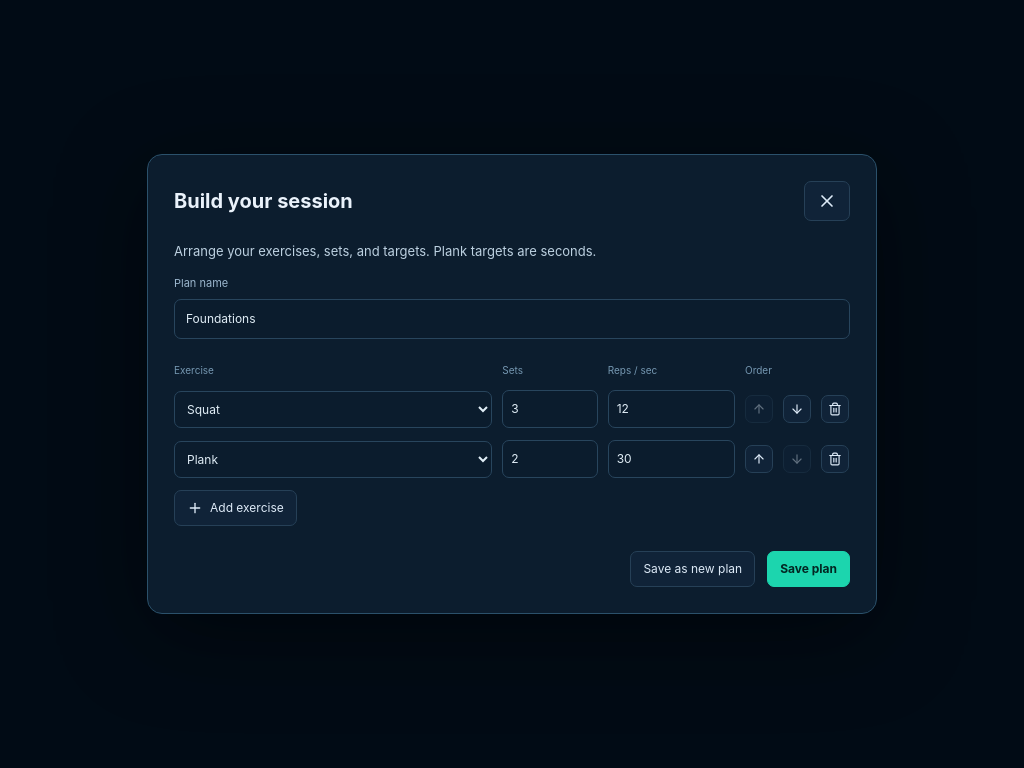
Plan editor › shows backend validation failure without closing
Click the button "Save plan" at (809, 569), box [767, 551, 850, 587]
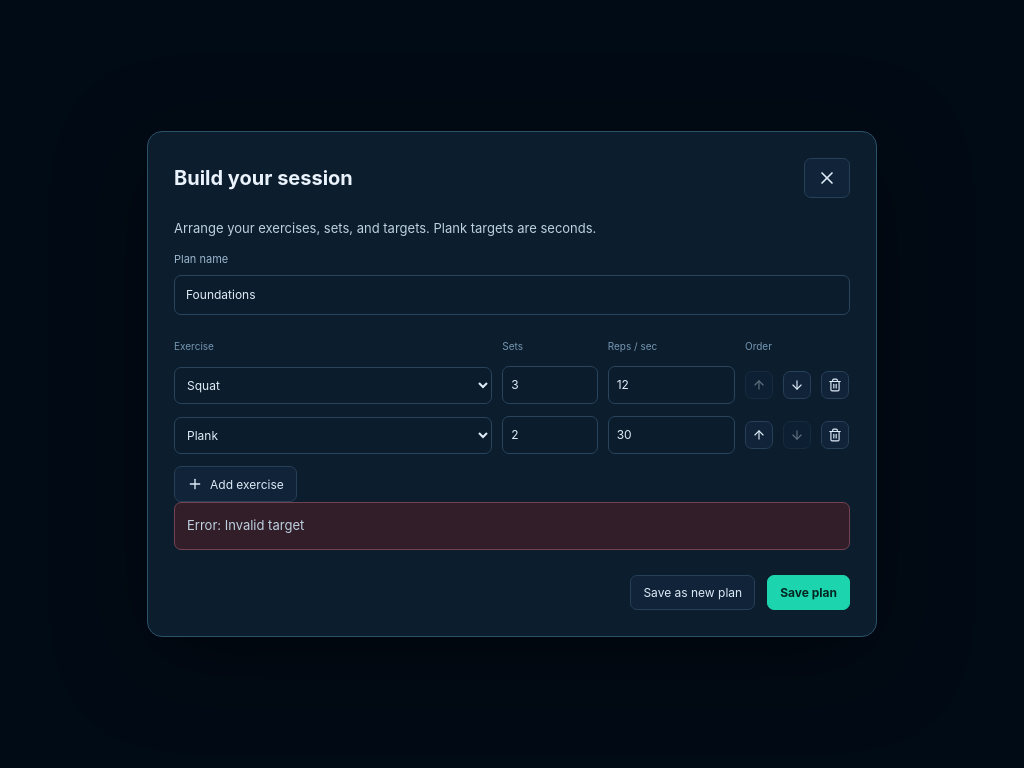
Expected: the message "Error: Invalid target" is shown, [174, 502, 850, 550]
Expected: the message shows "Invalid target", [187, 518, 304, 534]
